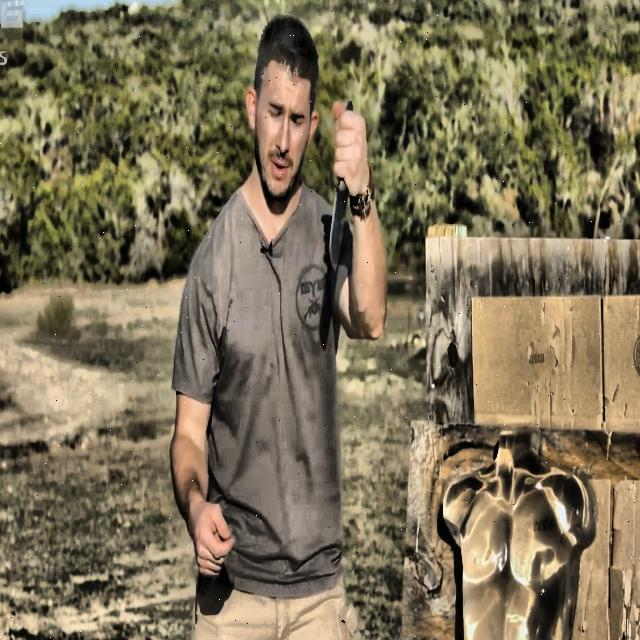knife: (330, 101, 352, 270)
